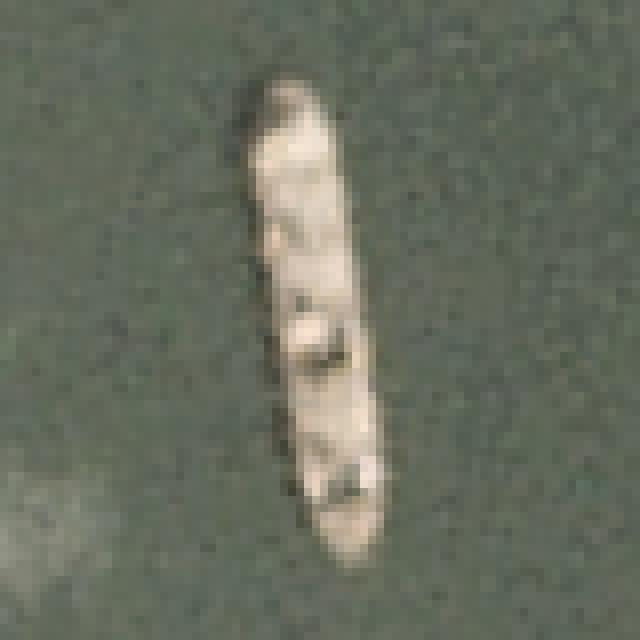ship: (198, 58, 473, 587)
